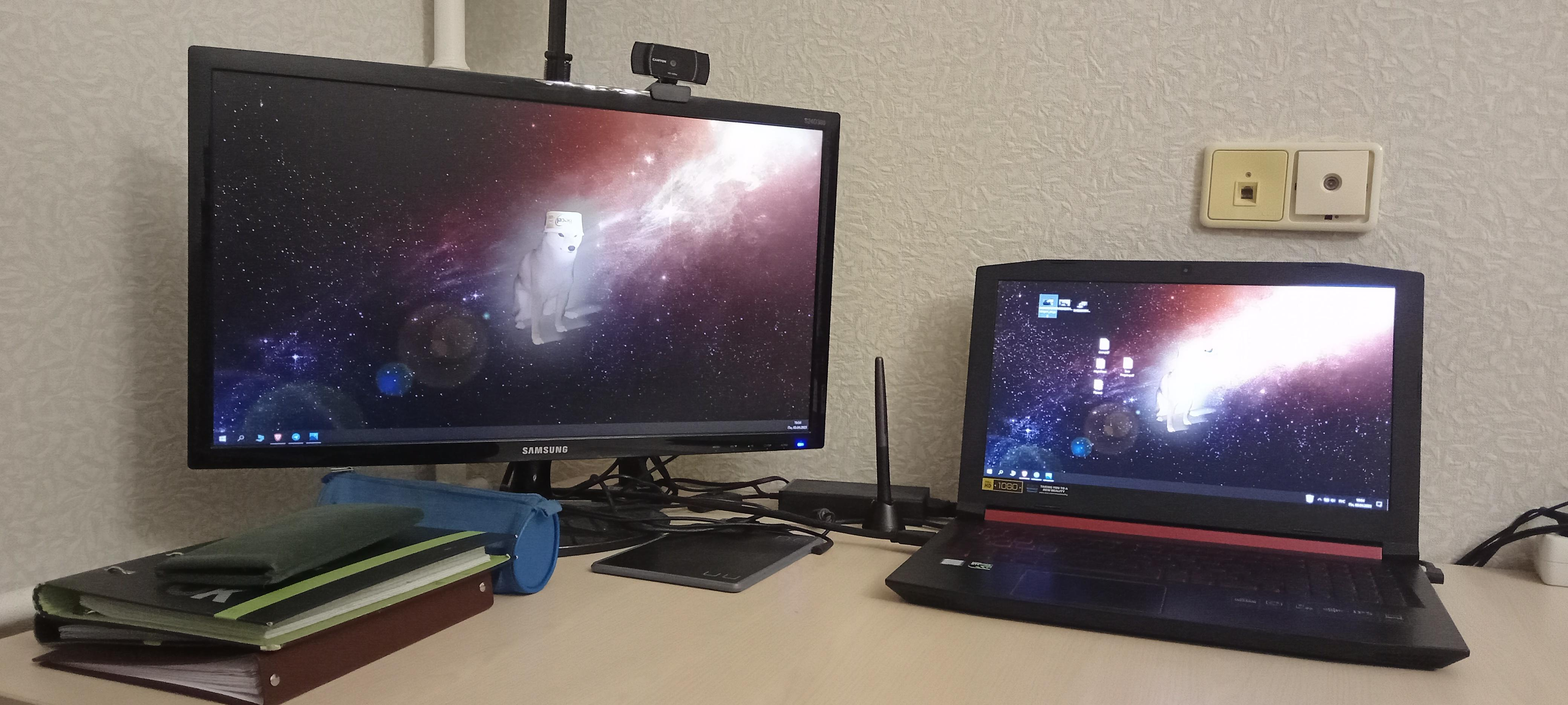monitor: (168, 36, 848, 569), (944, 252, 1438, 550)
